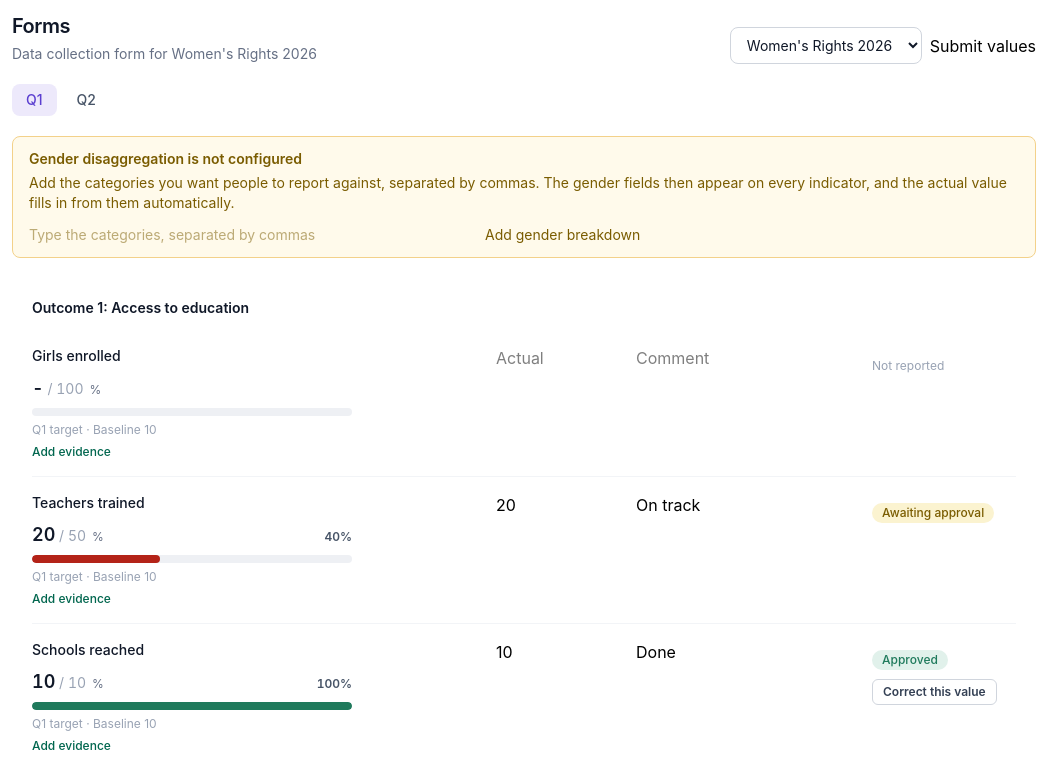
Test: MEForms: submit button › stops counting a value once it is cleared again
Type "80" into the number field with placeholder "Actual".
click(560, 358); type("80")  # box [496,346,624,370]
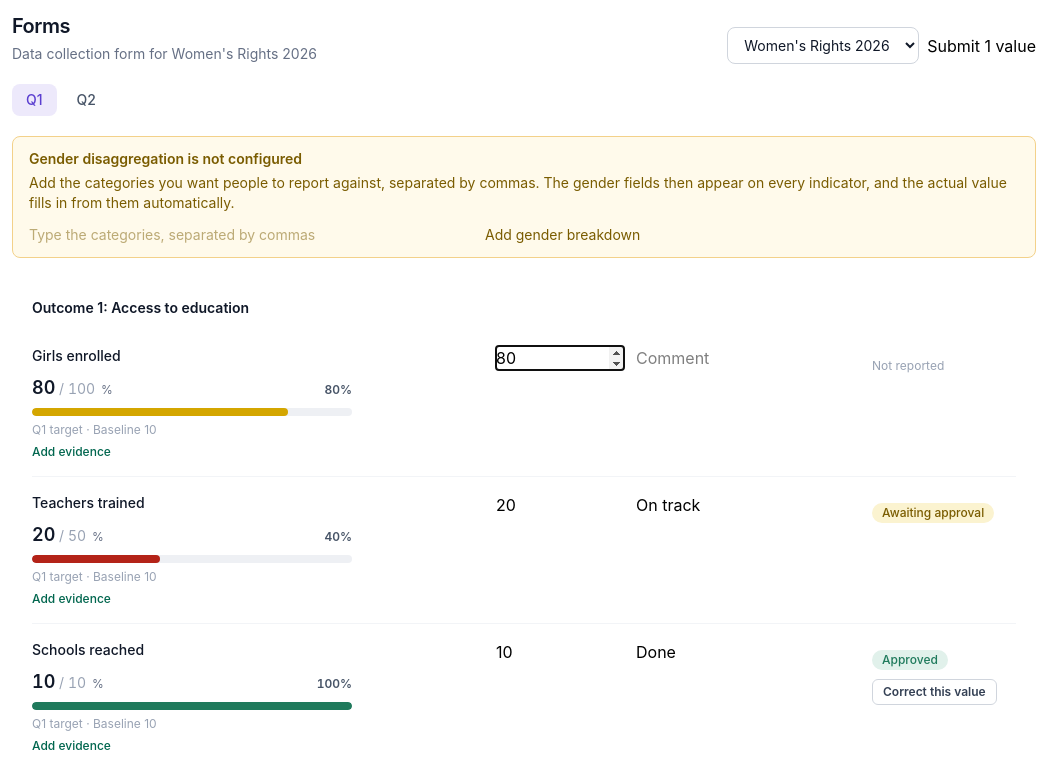
Clear the number field named "Actual for Girls enrolled" at (560, 358), box [496,346,624,370]
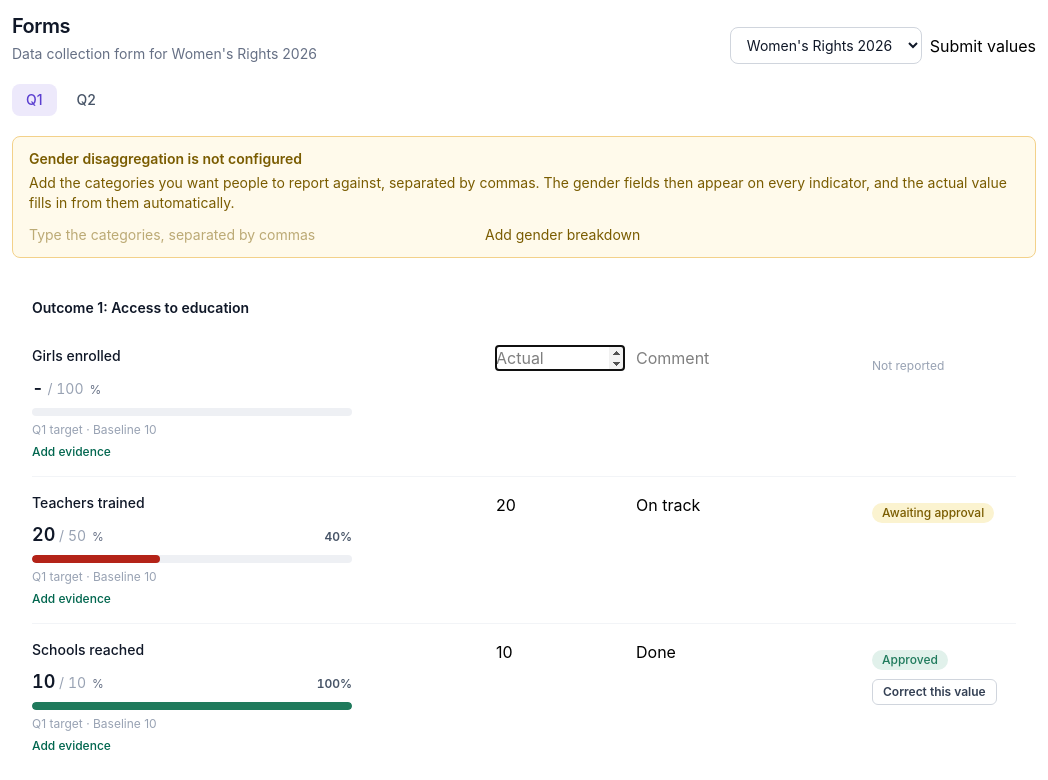
Expected: the button "Submit values" is disabled, [930,34,1036,58]
